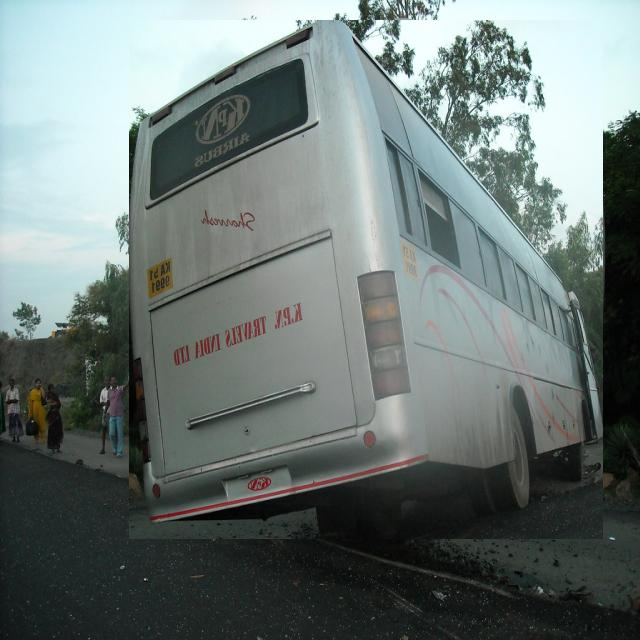bus: (130, 20, 603, 539)
